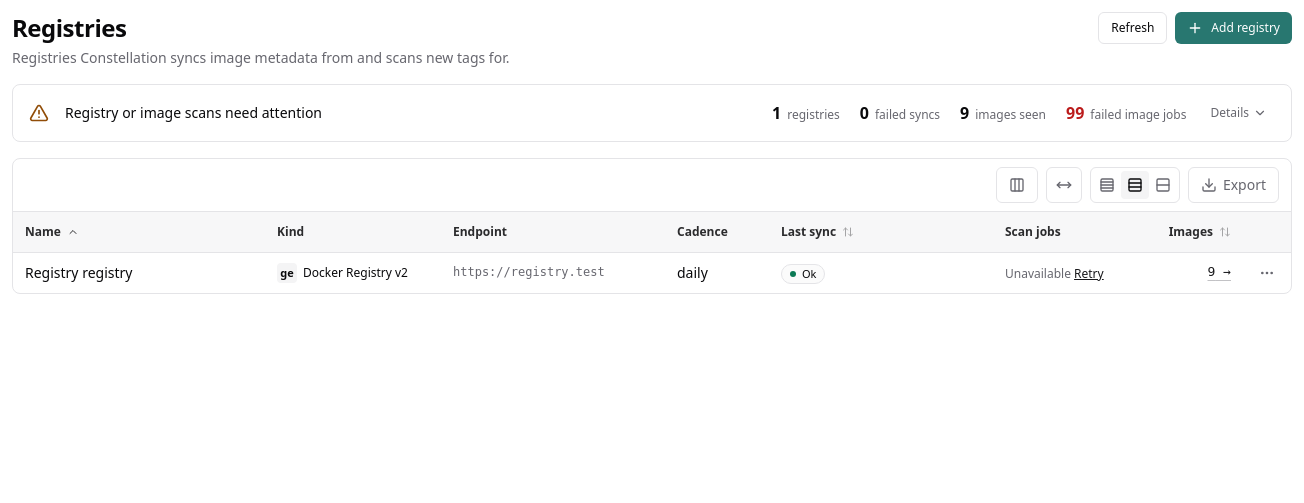
Scenario: rejects malformed row queue missing-summary
Check: the cell "Unavailable Retry" is shown, box [993,252,1145,292]
Press the mouse on the button named "Actions for Registry registry" at (1267, 272), box [1255,260,1279,284]
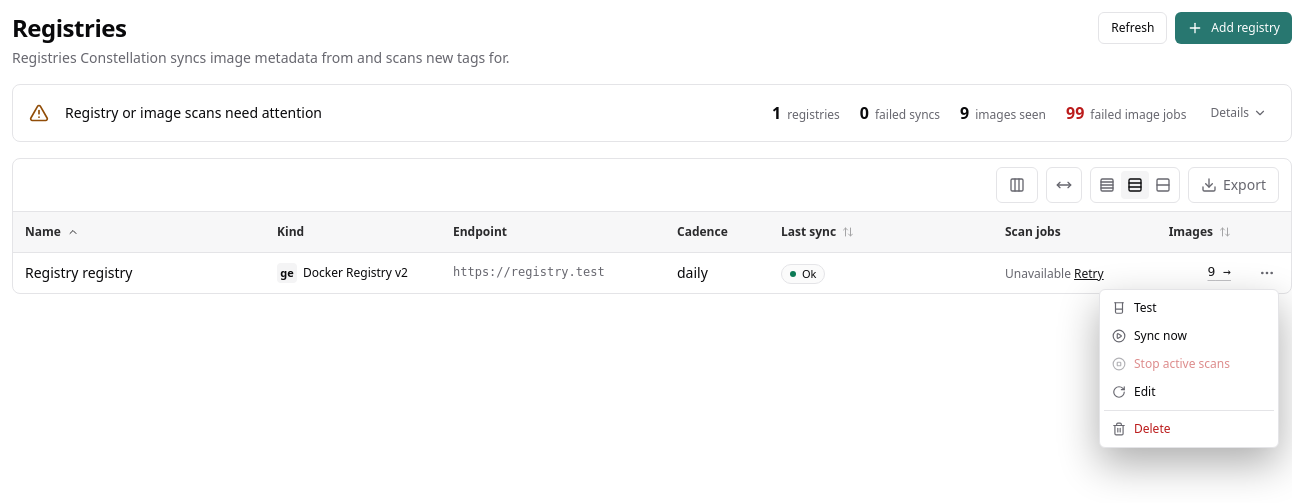
Check: the menu is shown, box [1099,289,1279,448]
